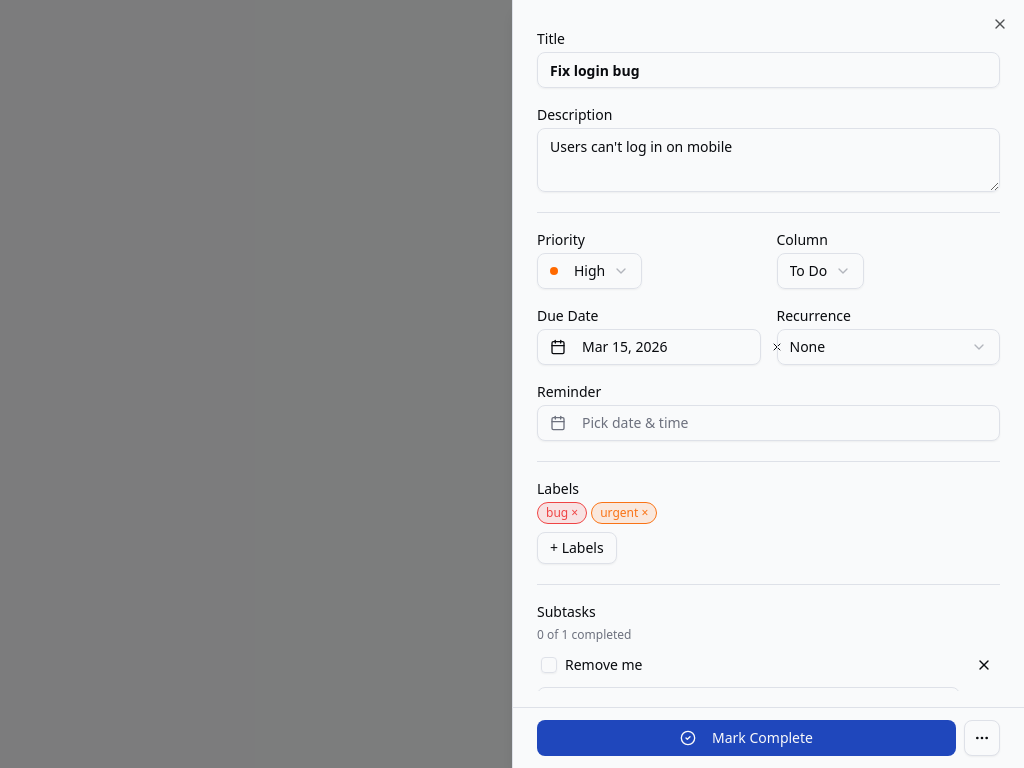
Test: TaskSheet › deletes a subtask
Click the button named "Delete Remove me": {"x": 984, "y": 665} [972,653,996,677]
Wait 600 ms
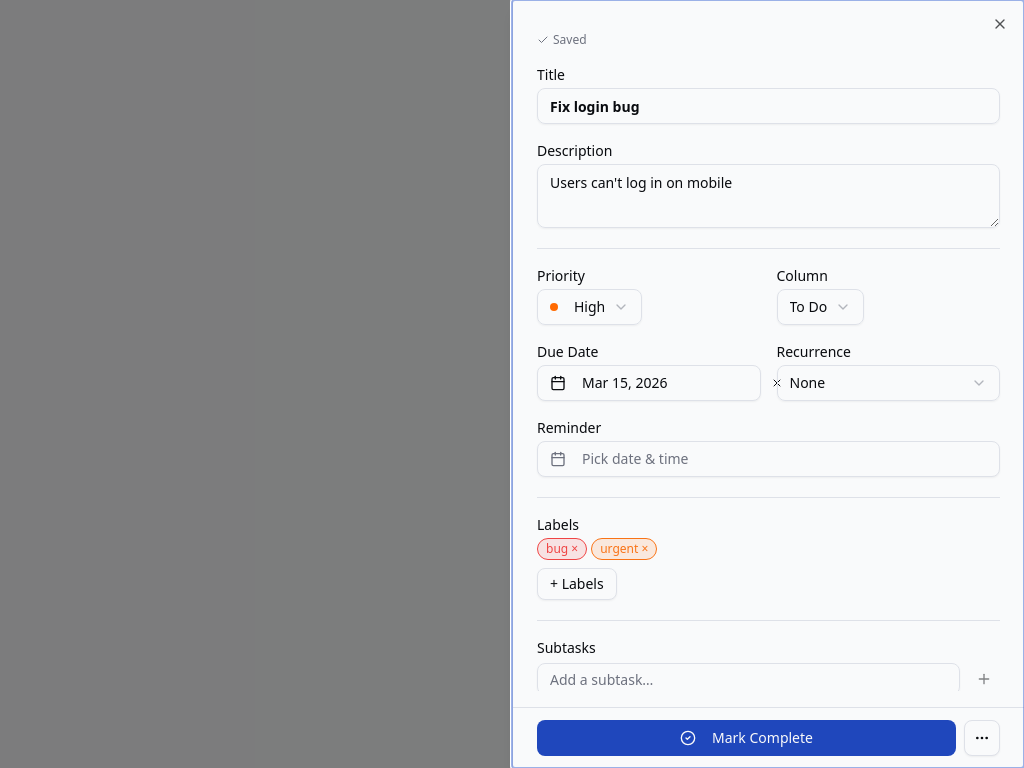
Check: the text "Remove me" is gone
